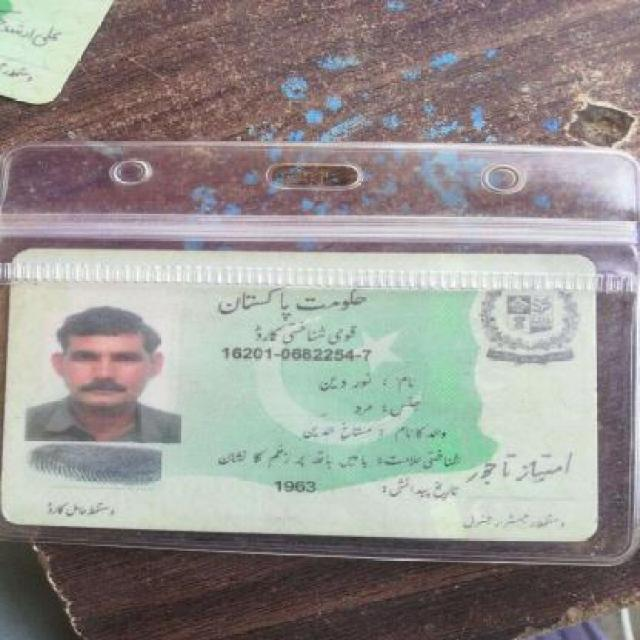Front: (3, 245, 606, 548)
